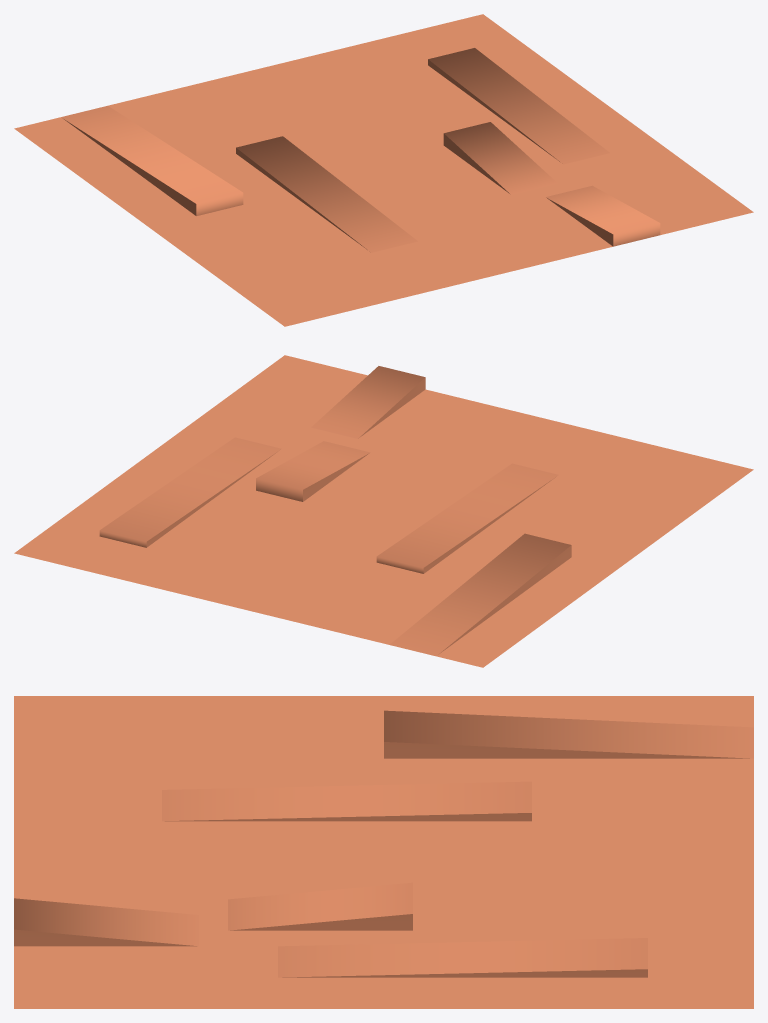
The model's file is floor-wood.obj.
3 views of the same model, one above another, from view 1: azimuth 30°, elevation 25°; view 2: azimuth 150°, elevation 25°; view 3: azimuth 270°, elevation 25° (orthographic). The views are drawn at different scales.
Parts seen in each view (by area): view 1: floor-wood; view 2: floor-wood; view 3: floor-wood.
Part boxes in pixels (<box>): floor-wood: <box>14,14,753,326</box>; floor-wood: <box>14,355,753,667</box>; floor-wood: <box>14,696,753,1008</box>.
Size of the model in its own units: 1 by 0.025 by 1.
1 material, 1 textured.
